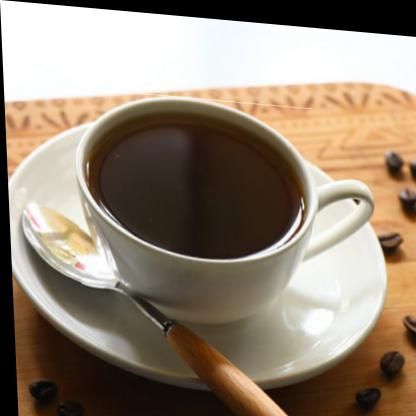non_milk_based_beverage: (72, 86, 320, 328)
